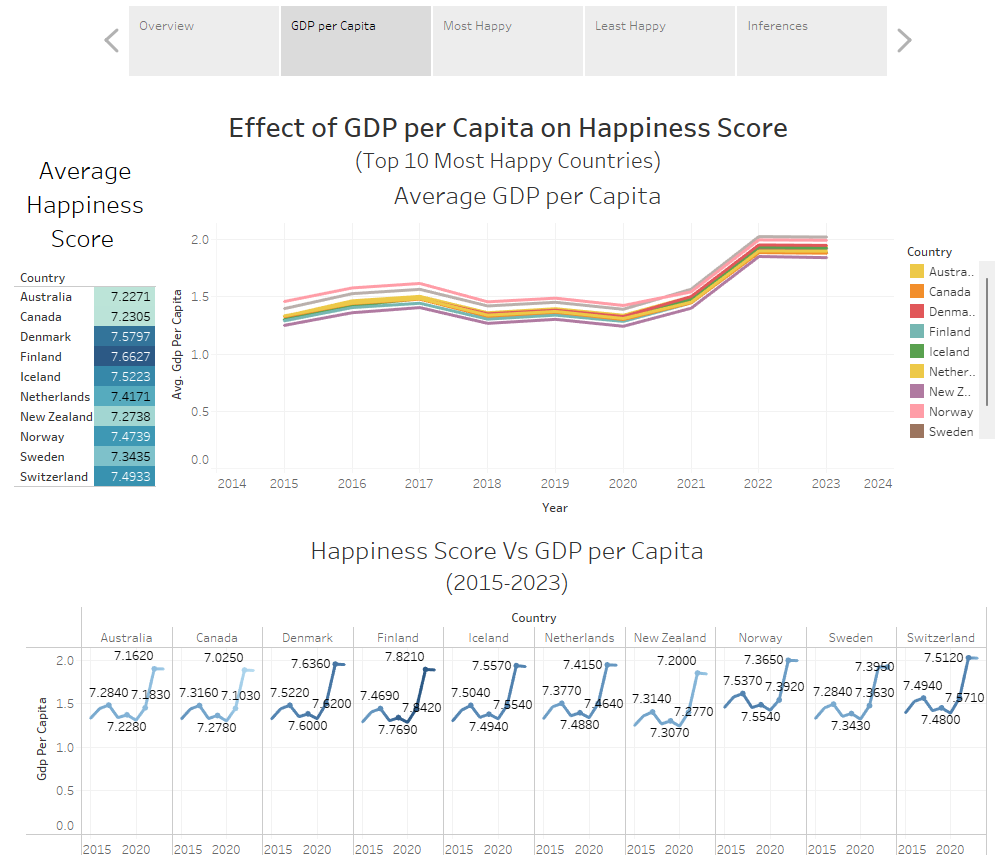

The dashboard page shown, as its layout file describes it:
{"tool":"tableau","page":{"name":"Happiness GDP Effect","canvas":[1000,1000],"units":"permille","ordinal":1},"visuals":[{"type":"title","box":[7,8,986,74]},{"type":"worksheet","title":"Top 10 Avg Happiness","mark":"Square","rows":["country"],"box":[6.1,65,145.1,459]},{"type":"worksheet","title":"Top 10 Happiness Avg GDP","mark":"Automatic","rows":["gdp_per_capita"],"cols":["year"],"box":[152.7,96,733,431]},{"type":"legend","title":"Top 10 Happiness Avg GDP","param":"[federated.1nnb5s81987nmd13ryej518t1e0h].[none:country:nk]","box":[899.5,181,90,242]},{"type":"worksheet","title":"Top 10 Happiness GDP by Country","mark":"Automatic","rows":["gdp_per_capita"],"cols":["country","year"],"box":[18.5,534.9,961.5,445.3]}]}

Visuals, with their boxes on the dashboard's canvas, which has no fixed pixel size, in thousandths of its width and height (x1, y1, x2, y2). These are canvas units, not pixel positions in the 1007x855 screenshot, which may show the page scaled, cropped or inside an application window:
title: [left=7, top=8, right=993, bottom=82]
"Top 10 Avg Happiness" worksheet (Square marks): [left=6, top=65, right=151, bottom=524]
"Top 10 Happiness Avg GDP" worksheet: [left=153, top=96, right=886, bottom=527]
"Top 10 Happiness Avg GDP" legend: [left=900, top=181, right=990, bottom=423]
"Top 10 Happiness GDP by Country" worksheet: [left=18, top=535, right=980, bottom=980]
